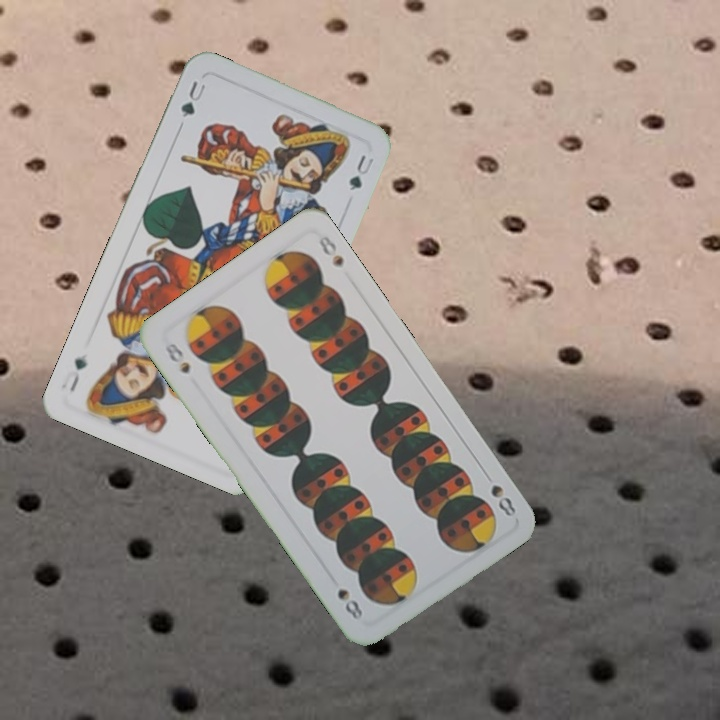GU: (176, 77, 210, 120)
S8: (479, 468, 519, 520), (160, 339, 193, 377)
